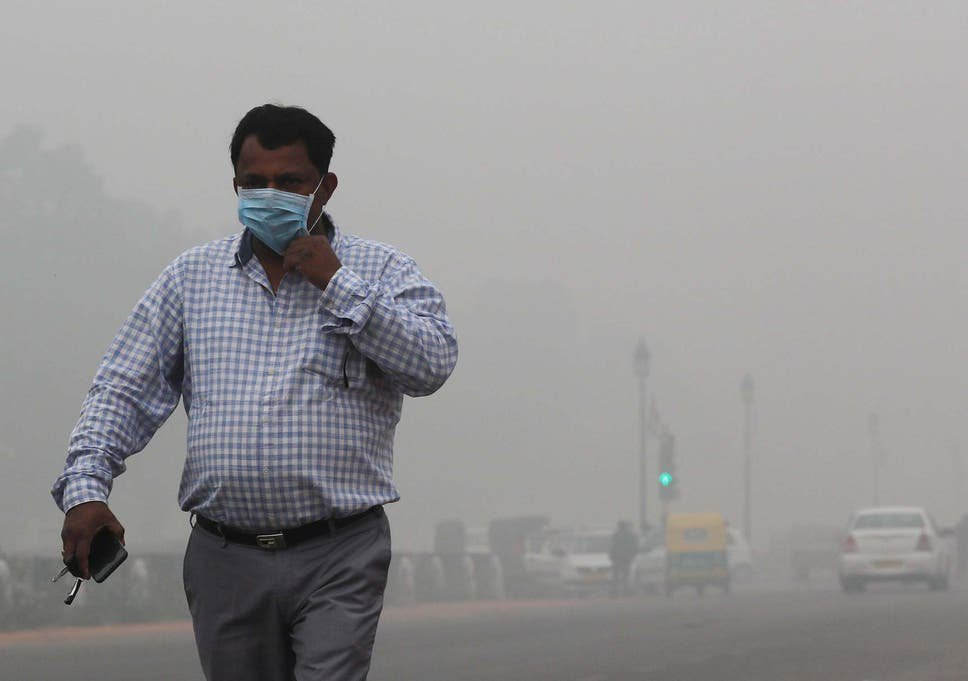mask: (215, 100, 357, 260)
